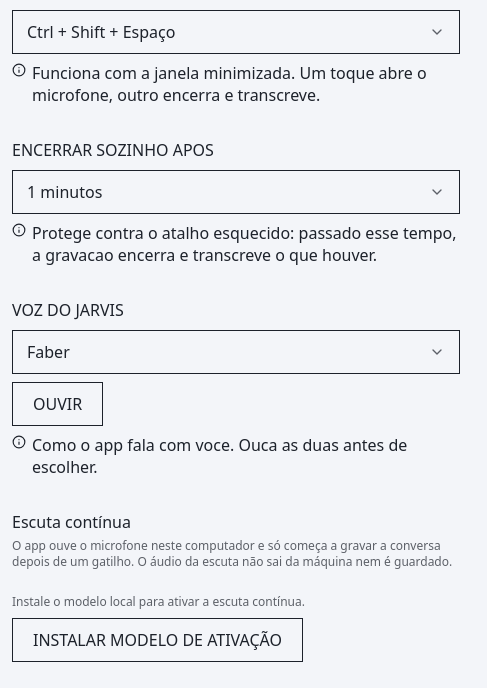
Test case: a voz da fala em Settings › lista as vozes instaladas para escolher
(page scrolled)
What coordinates should you click on to do the following:
click the dropdown named "Voz do JARVIS"
I would click on:
 (48, 352)
Its box is [12,330,460,374].
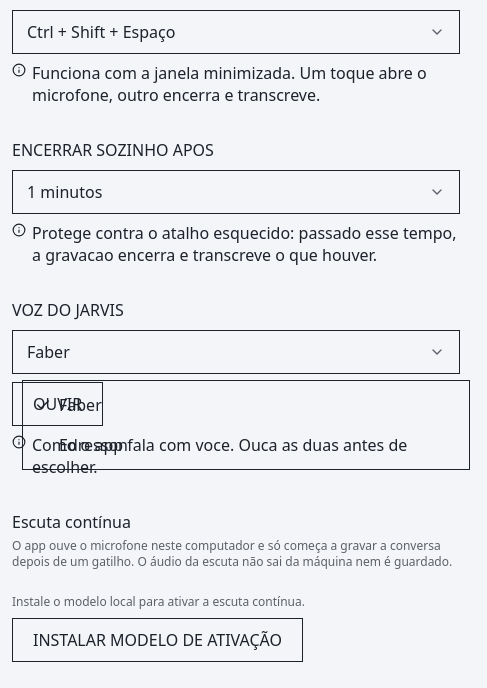
Expected: the option "Faber" is shown, [35,394,102,416]
Expected: the option "Edresson" is shown, [59,434,128,456]
